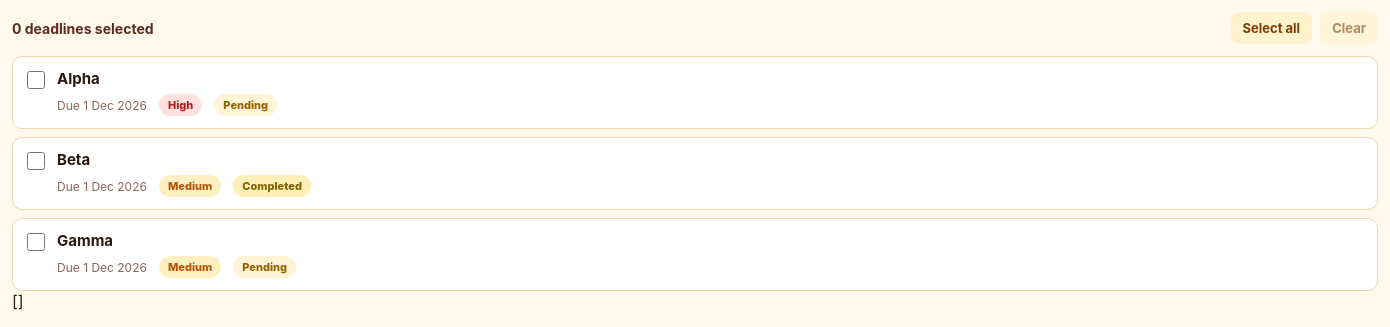
Test: TaskSelector › selects, deselects and counts deadlines
expect the text "0 deadlines selected" is shown: met, box [12,20,154,36]
Click the checkbox named "Select Alpha": {"x": 36, "y": 80} [27,71,45,89]
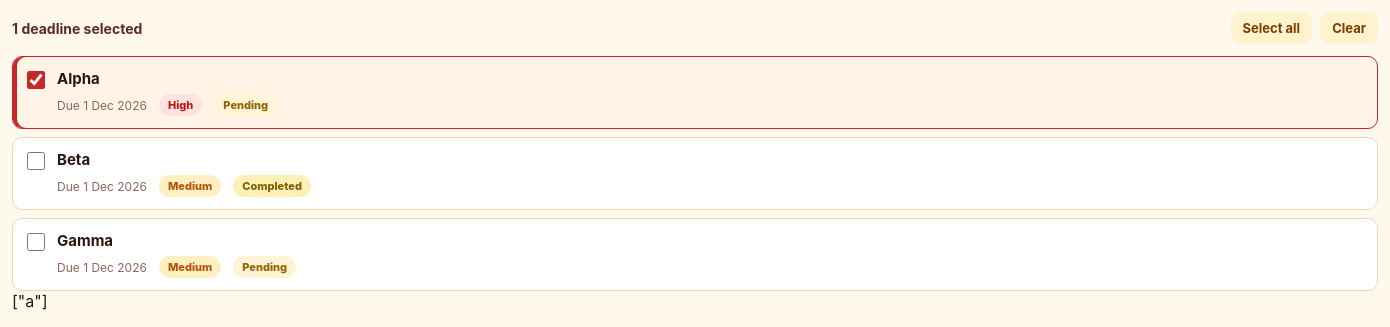
Click the checkbox named "Select Gamma": {"x": 36, "y": 242} [27,233,45,251]
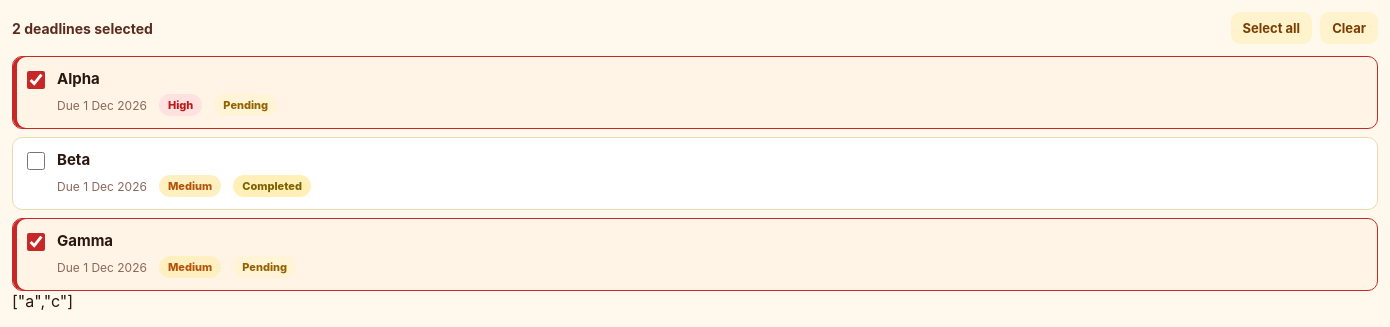
expect the checkbox named "Select Alpha" is checked: met
expect the text "2 deadlines selected" is shown: met, box [12,20,153,36]
Click the checkbox named "Select Alpha": {"x": 36, "y": 80} [27,71,45,89]
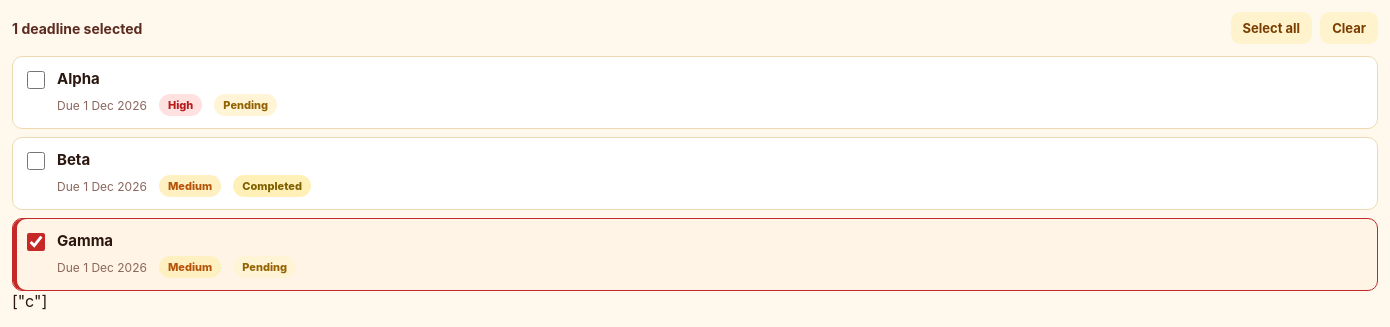
expect the text "1 deadline selected" is shown: met, box [12,20,142,36]
